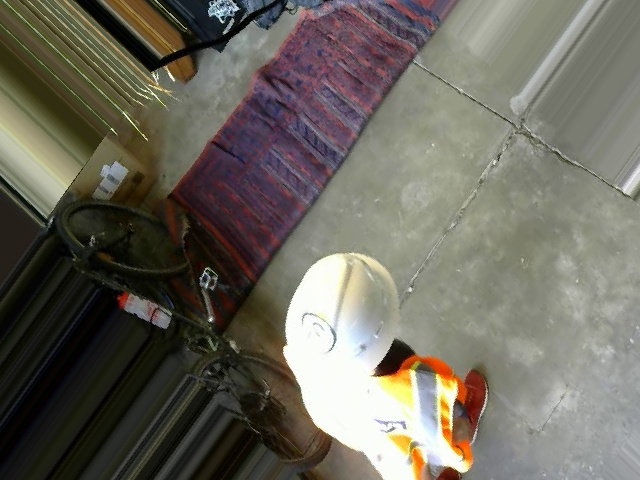three: (290, 305, 340, 360)
